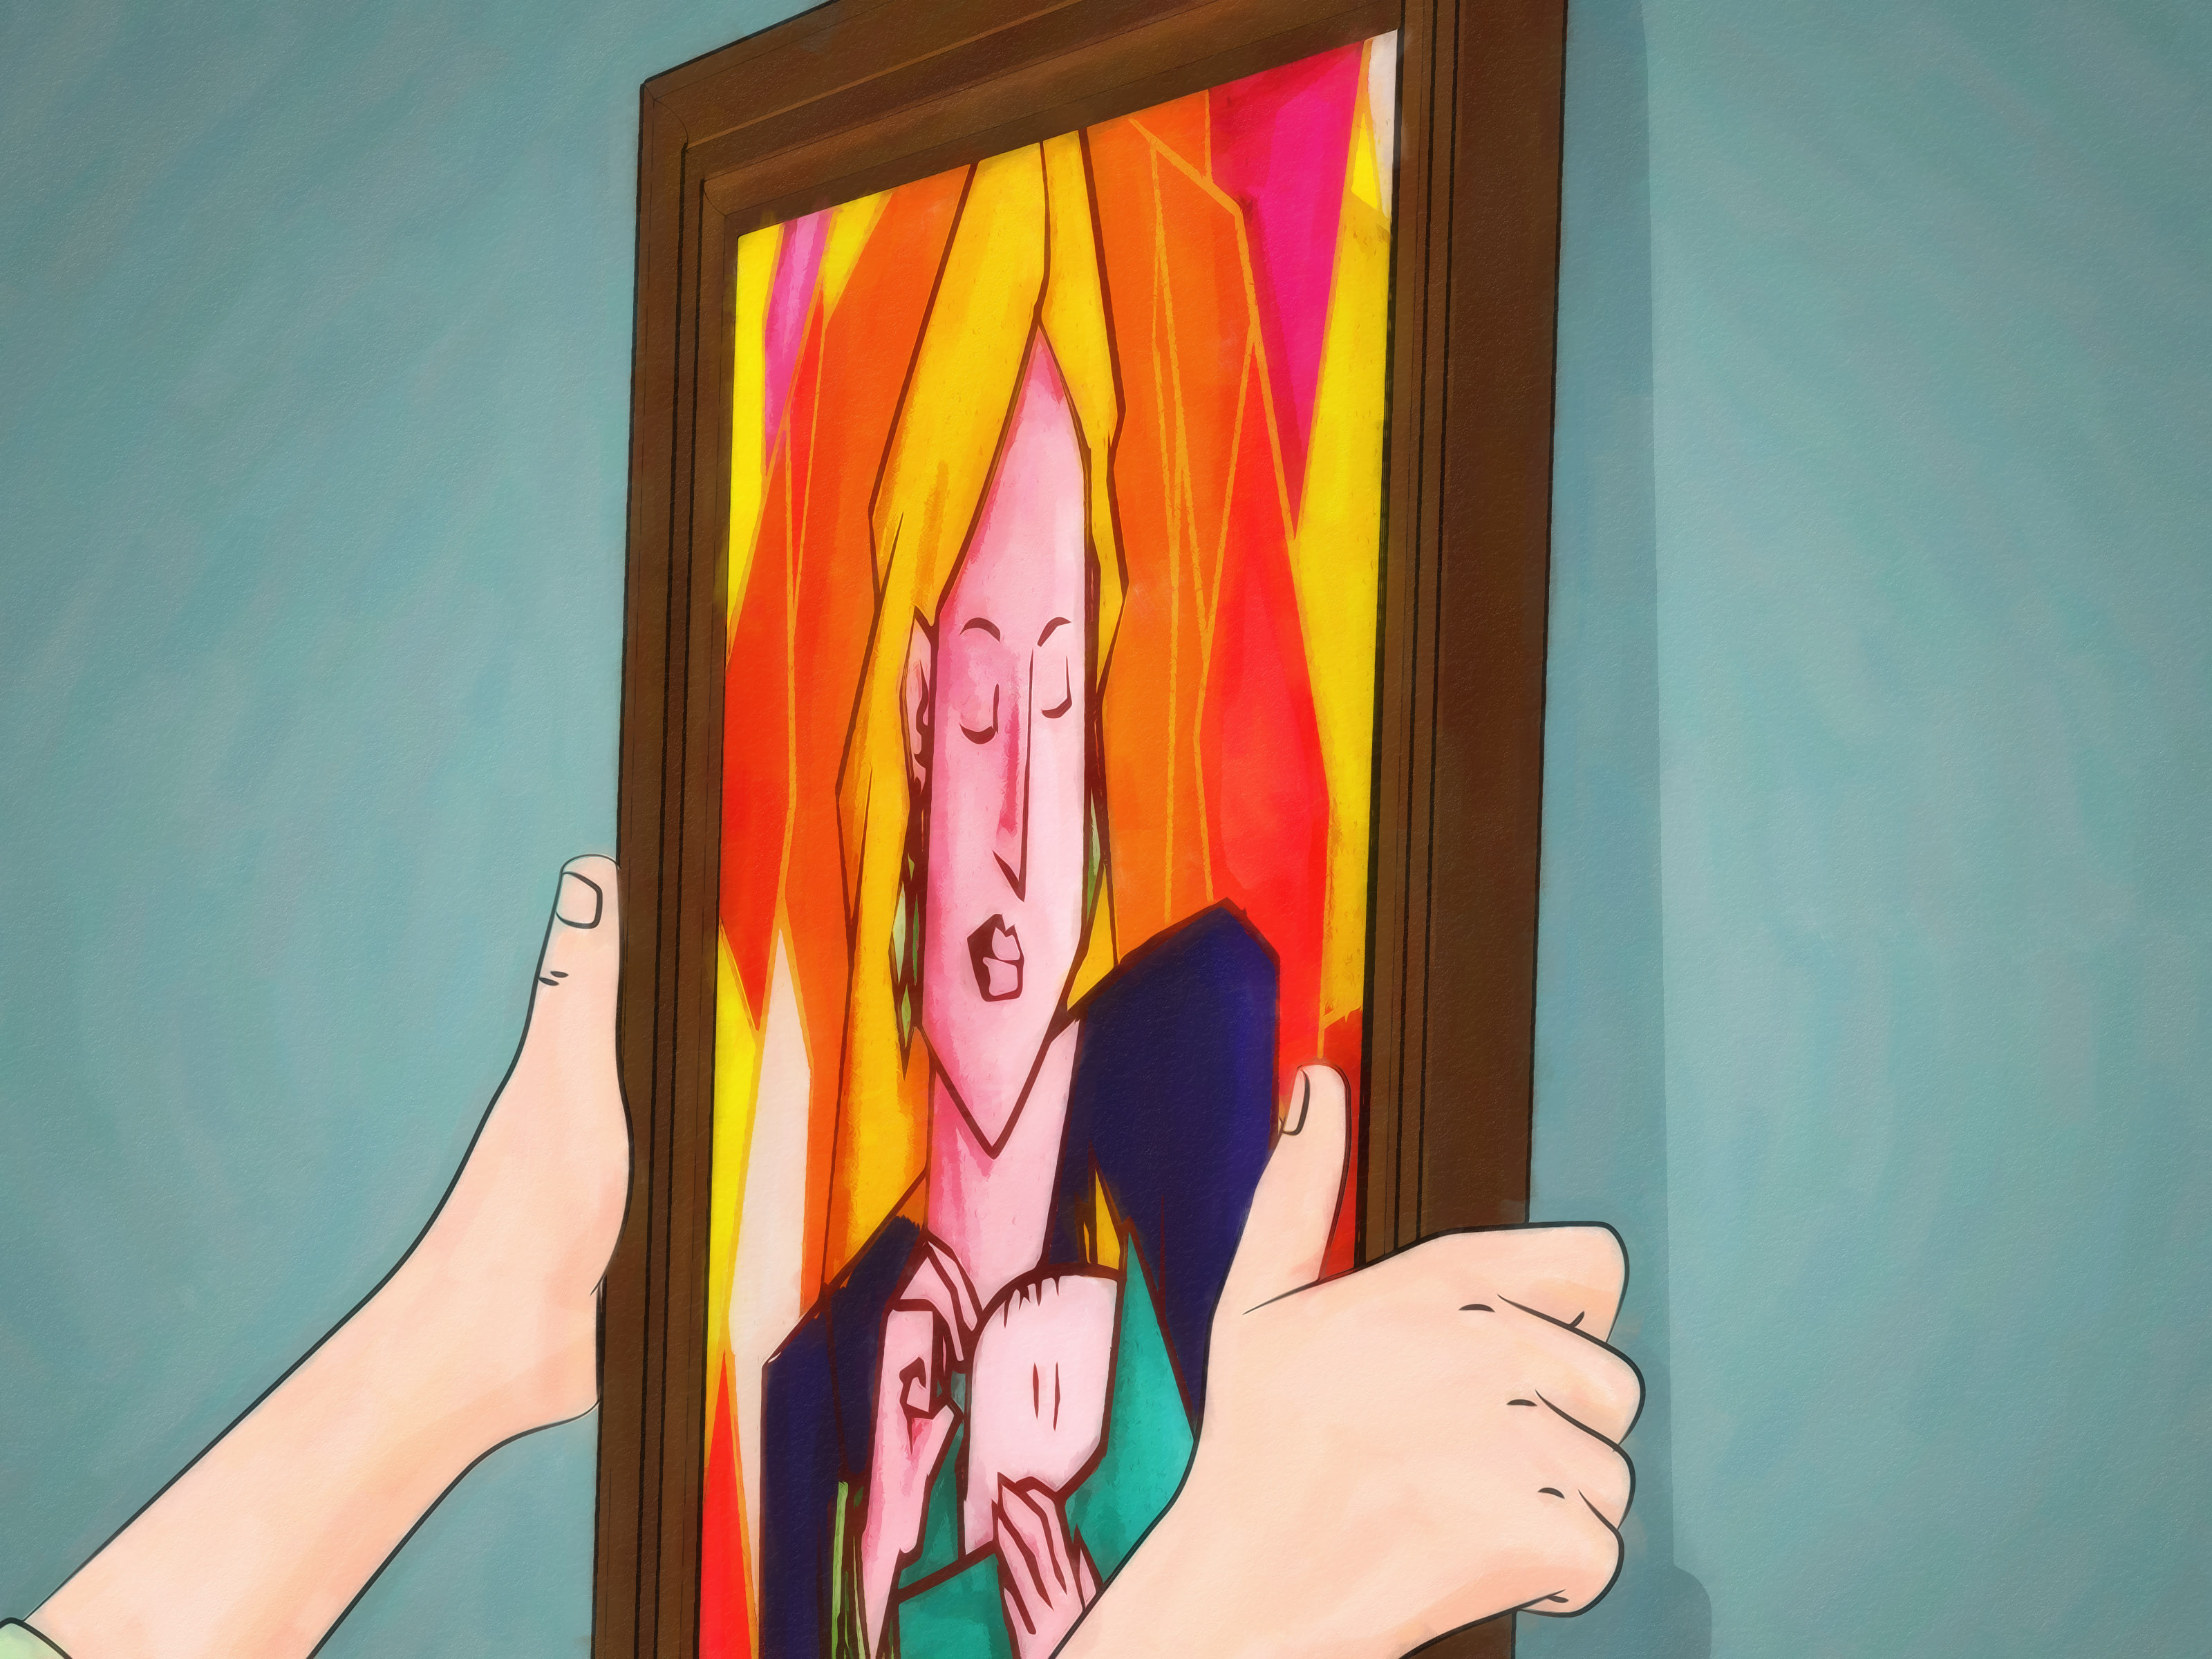lukisan: (580, 63, 1541, 1659)
